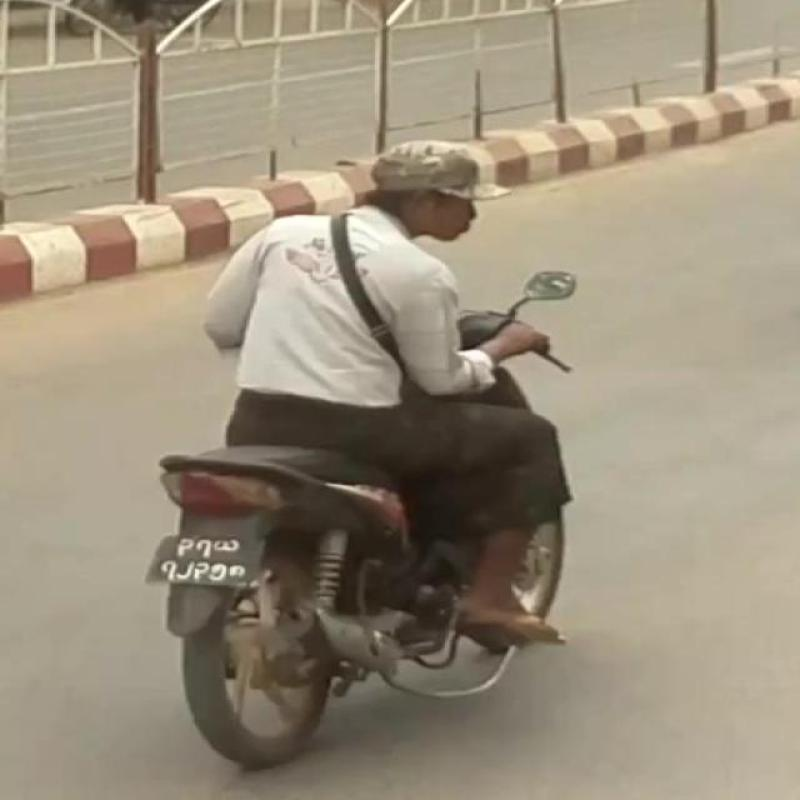nohelmet: (358, 134, 548, 225)
